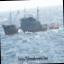fishing boat: (0, 4, 49, 37)
